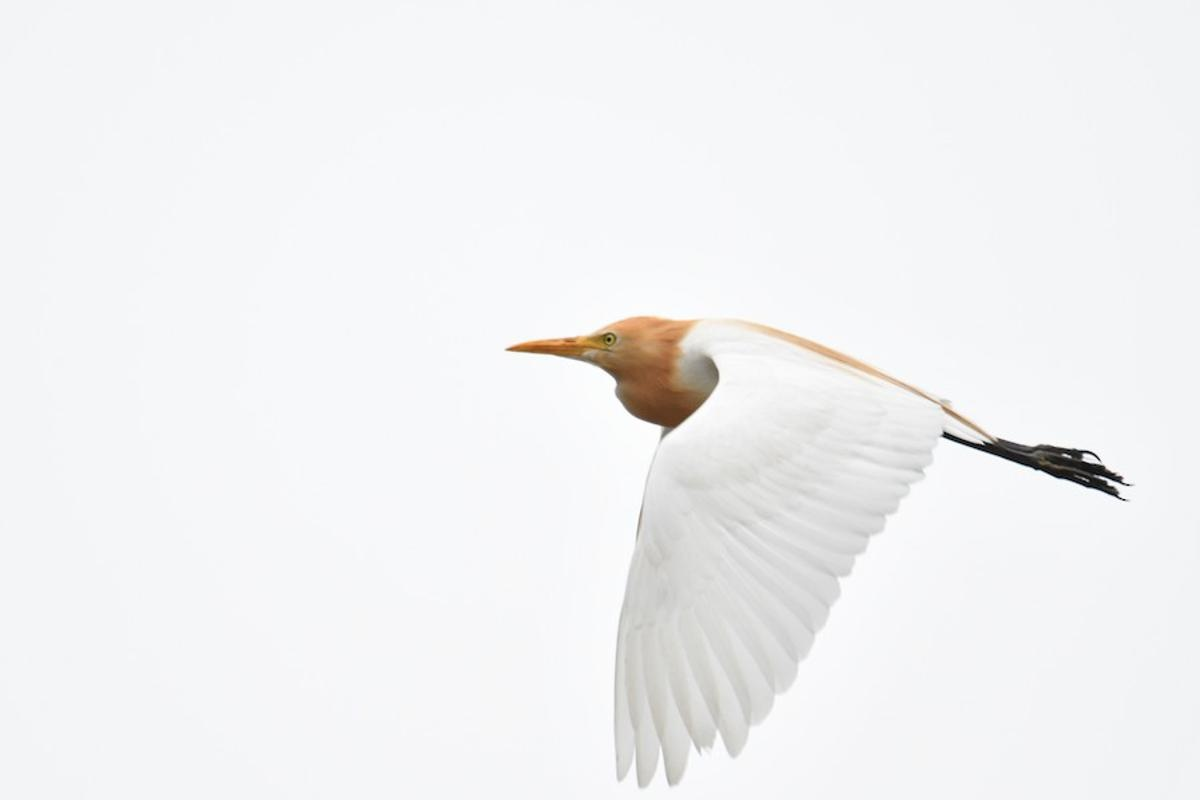egret: (491, 301, 1200, 800)
